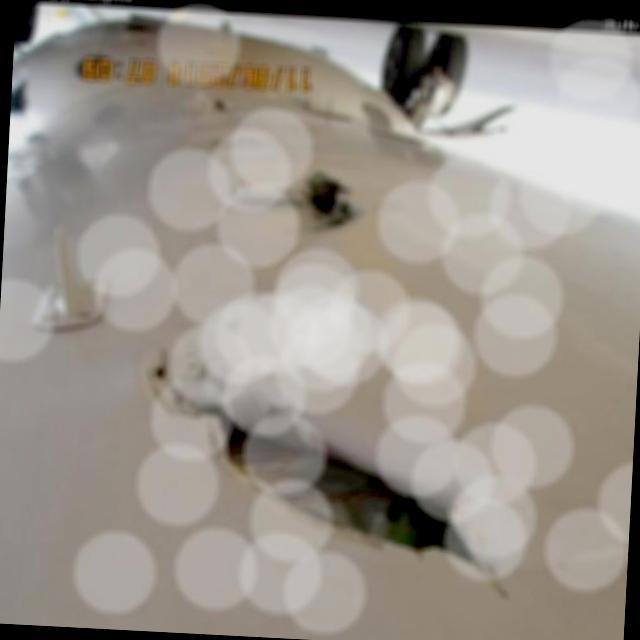crack: (129, 346, 520, 606)
